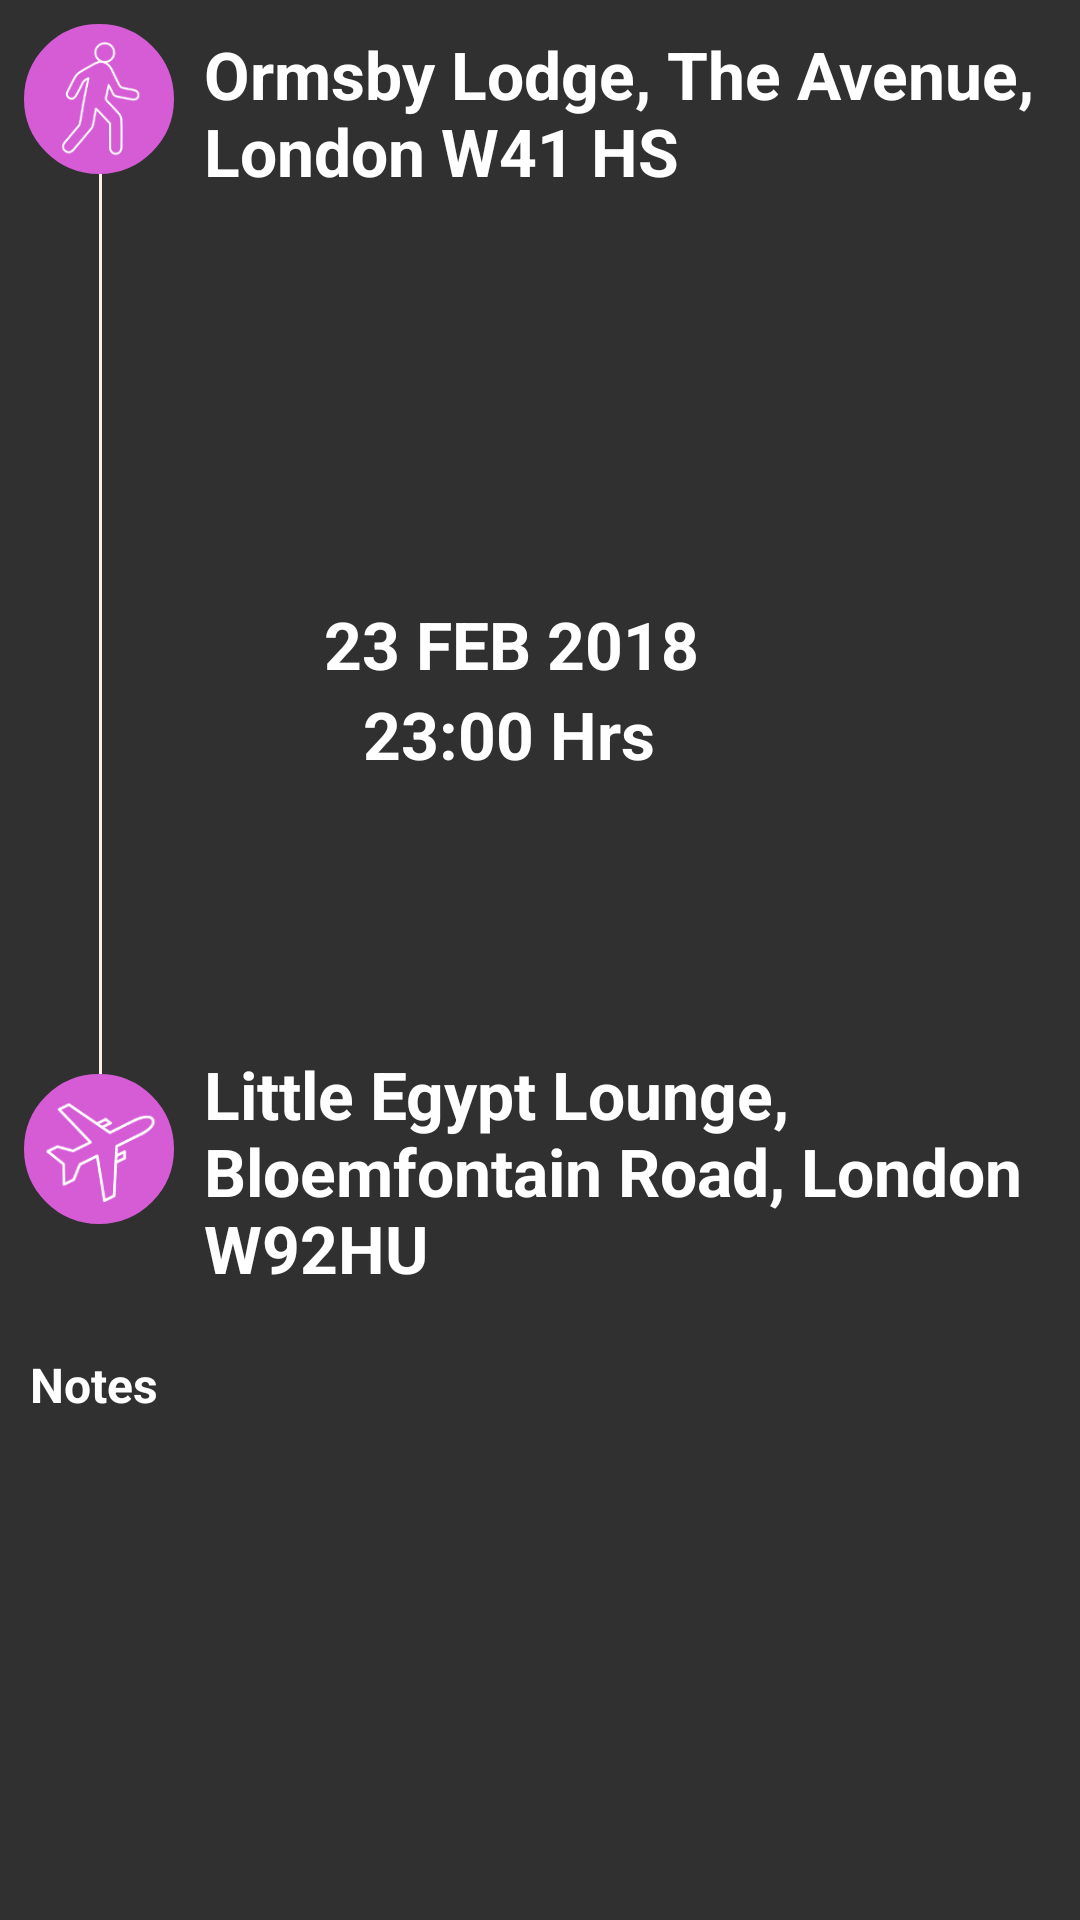

Screen size 1080 × 1920. Icon name, then its box in pixels as (x1, y1, x2, y2):
aeroplane transport: (24, 1074, 174, 1224)
walk transport: (24, 24, 174, 174)
